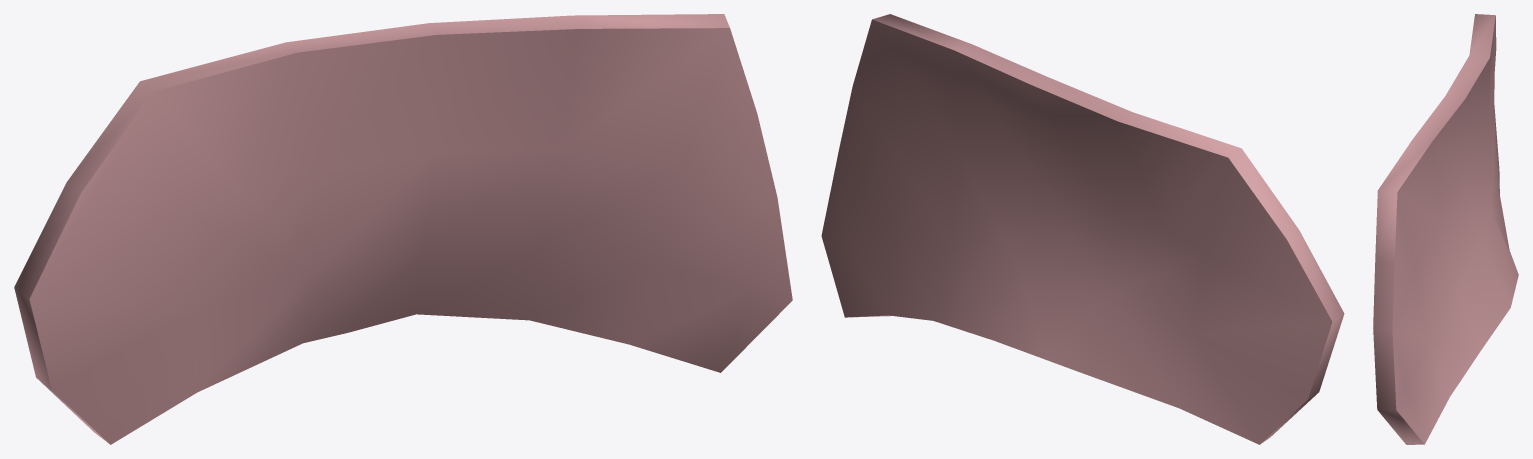
3 renders of one model, left to right at view 1: azimuth 30°, elevation 25°; view 2: azimuth 150°, elevation 25°; view 3: azimuth 270°, elevation 25°, orthographic. The views are drawn at different scales.
Parts seen in each view (by area): view 1: ZA_98834a287c3a30a8; view 2: ZA_98834a287c3a30a8; view 3: ZA_98834a287c3a30a8.
Part boxes in pixels (x1,y1,x2,y2): ZA_98834a287c3a30a8: (14,14,792,444); ZA_98834a287c3a30a8: (821,14,1344,444); ZA_98834a287c3a30a8: (1373,14,1518,444).
Bounding box in the file's own units: 0.0809 × 0.0417 × 0.021.
